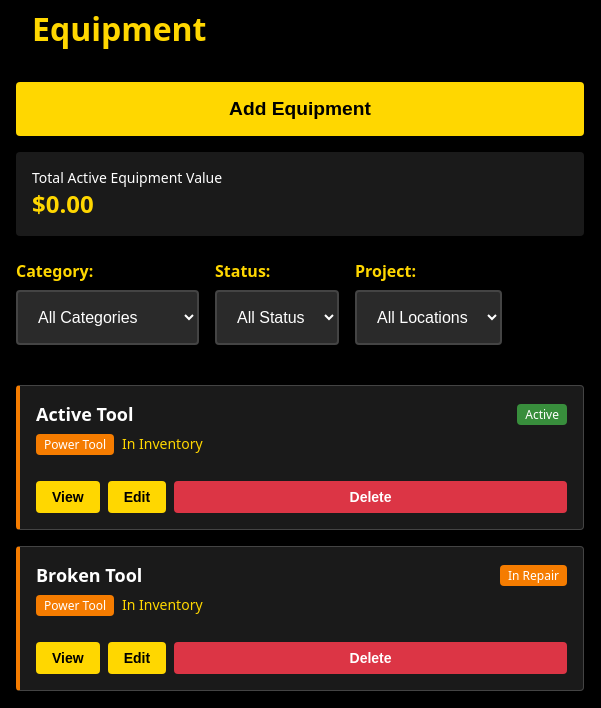
Scenario: EquipmentList › filters by status
expect the text "Active Tool" is shown: met, box [36,402,134,426]
expect the text "Broken Tool" is shown: met, box [36,563,142,587]
Select "In Repair" in the dropdown labelled "Status:": (277, 318) [215,290,339,345]
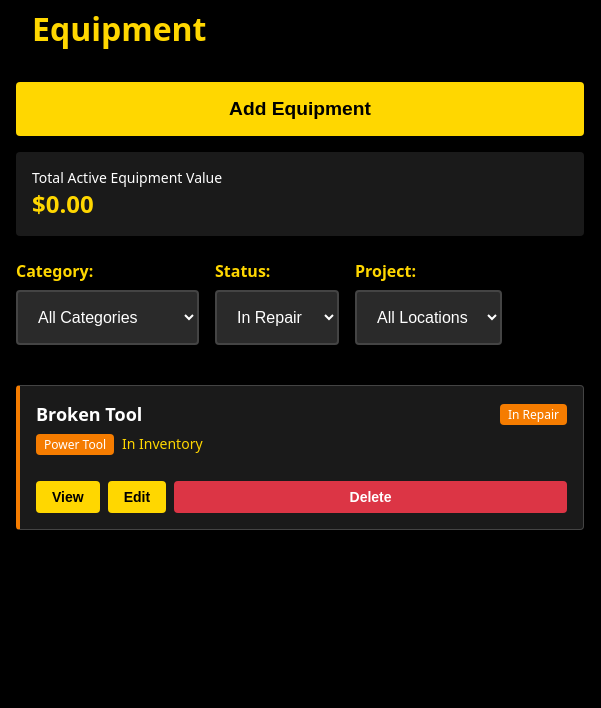
expect the text "Broken Tool" is shown: met, box [36,402,142,426]
expect the text "Active Tool" is gone: met
